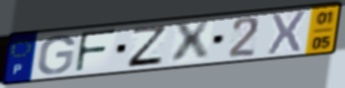2: (226, 16, 261, 60)
F: (74, 27, 120, 74)
G: (36, 33, 77, 76)
X: (265, 9, 309, 57), (170, 18, 212, 65)
Z: (125, 25, 169, 69)
